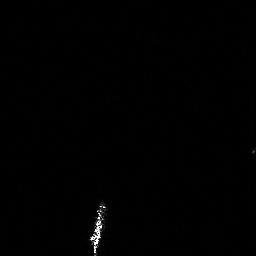ship: (85, 199, 111, 256)
